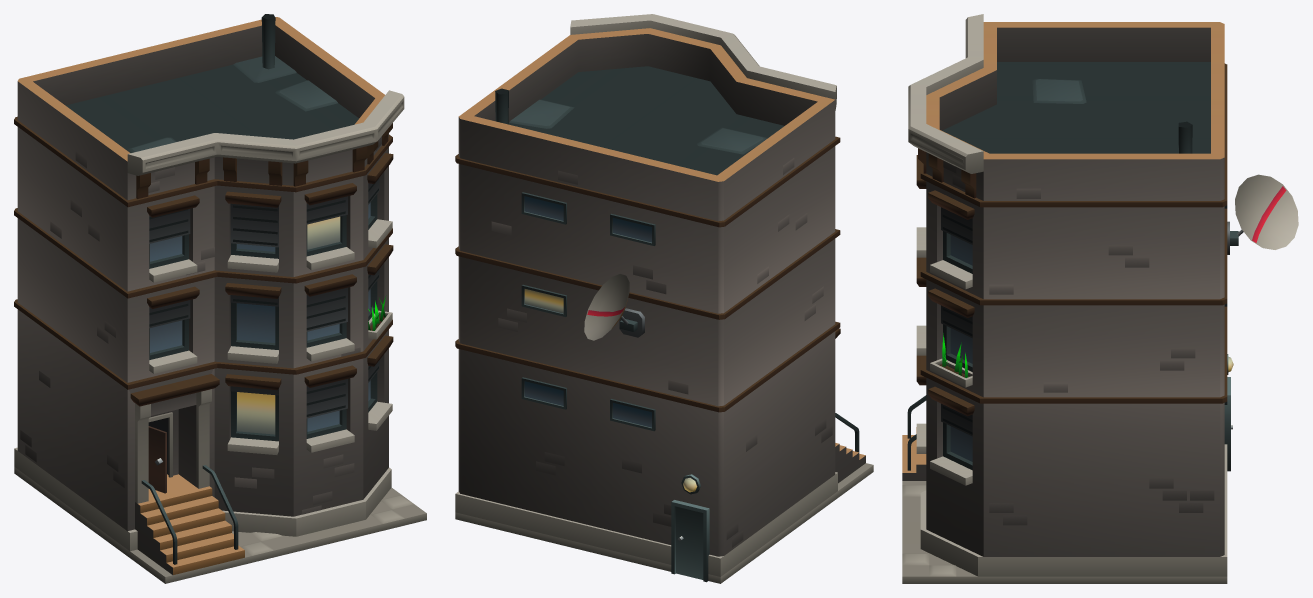
File: Building_3B.fbx
The picture shows the model from 3 angles, left to right: view 1: azimuth 30°, elevation 25°; view 2: azimuth 150°, elevation 25°; view 3: azimuth 270°, elevation 25°; orthographic projection. The views are drawn at different scales.
Parts seen in each view (by area): view 1: Building_3B, Window_Lights_3B; view 2: Building_3B, Dish_3B, Window_Lights_3B; view 3: Building_3B, Dish_3B.
Boxes of the visible parts, bbox=[...] form: Building_3B: bbox=[14, 14, 426, 583]; Window_Lights_3B: bbox=[237, 216, 340, 434]; Building_3B: bbox=[455, 14, 873, 583]; Dish_3B: bbox=[584, 274, 629, 340]; Window_Lights_3B: bbox=[524, 289, 563, 313]; Building_3B: bbox=[902, 14, 1238, 583]; Dish_3B: bbox=[1235, 174, 1298, 249].
Size of the model in its own units: 12.42 by 18.14 by 14.64.
